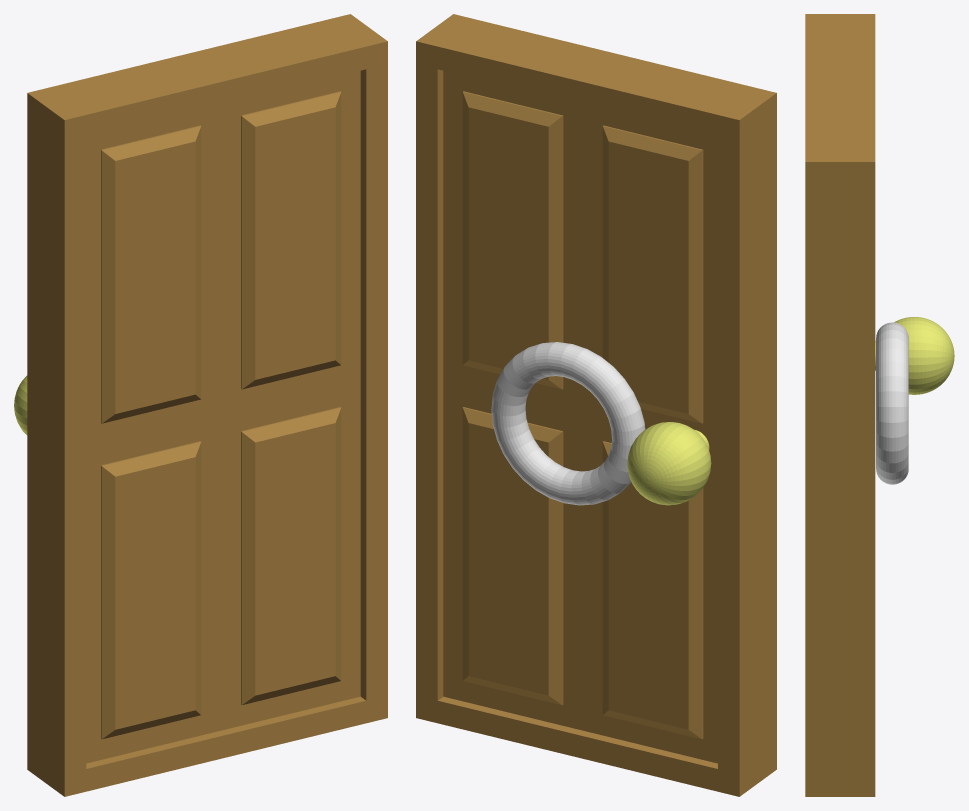
Rendered from door1side.fbx.
The picture shows the model from 3 angles, left to right: view 1: azimuth 30°, elevation 25°; view 2: azimuth 150°, elevation 25°; view 3: azimuth 270°, elevation 25°; orthographic projection. The views are drawn at different scales.
Visible parts, largest first — view 1: Cube; view 2: Cube, Torus, Sphere; view 3: Cube, Torus, Sphere.
Boxes of the visible parts, box(x1,y1,x2,y2) form: Cube: box(27, 14, 387, 796); Cube: box(416, 14, 776, 796); Torus: box(491, 342, 645, 505); Sphere: box(627, 422, 711, 505); Cube: box(805, 14, 875, 796); Torus: box(876, 322, 908, 484); Sphere: box(875, 317, 954, 394).
Bounding box in the file's own units: 200 × 400 × 85.18.
